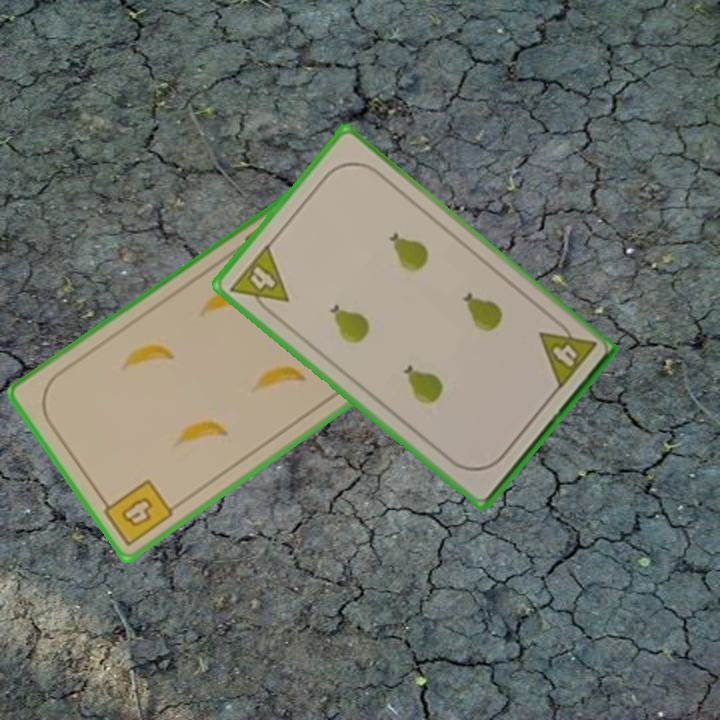4b: (96, 476, 176, 550)
4p: (226, 240, 292, 321), (535, 314, 600, 393)
